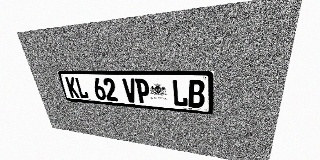2: (102, 78, 118, 101)
6: (92, 78, 107, 100)
B: (188, 80, 205, 108)
K: (65, 77, 80, 98)
L: (172, 79, 188, 107), (74, 77, 89, 99)
P: (135, 79, 151, 104)
V: (122, 78, 138, 103)
